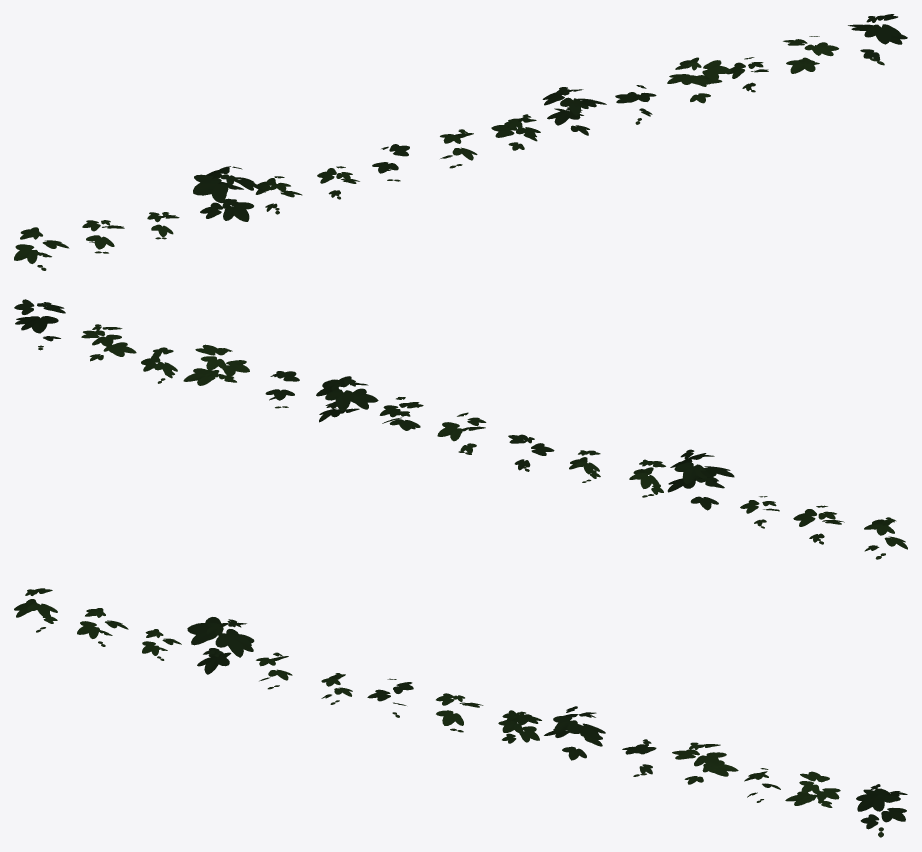
Rendered from ROW_15_SEG3_foliage.dae.
3 renders of one model, top to bottom at view 1: azimuth 30°, elevation 25°; view 2: azimuth 150°, elevation 25°; view 3: azimuth 330°, elevation 25°, orthographic.
Visible parts, largest first — view 1: ROW_15_SEG3_foliage; view 2: ROW_15_SEG3_foliage; view 3: ROW_15_SEG3_foliage.
Part boxes in pixels (box(x1,y1,x2,y2)): ROW_15_SEG3_foliage: box(14, 14, 907, 270); ROW_15_SEG3_foliage: box(14, 299, 907, 559); ROW_15_SEG3_foliage: box(14, 588, 907, 837).
Size of the model in its own units: 4.54 by 0.3304 by 0.2769.
